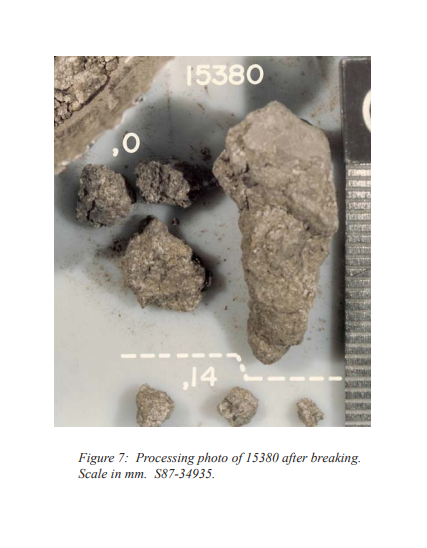Basalt: (210, 122, 329, 360), (84, 131, 144, 239)
